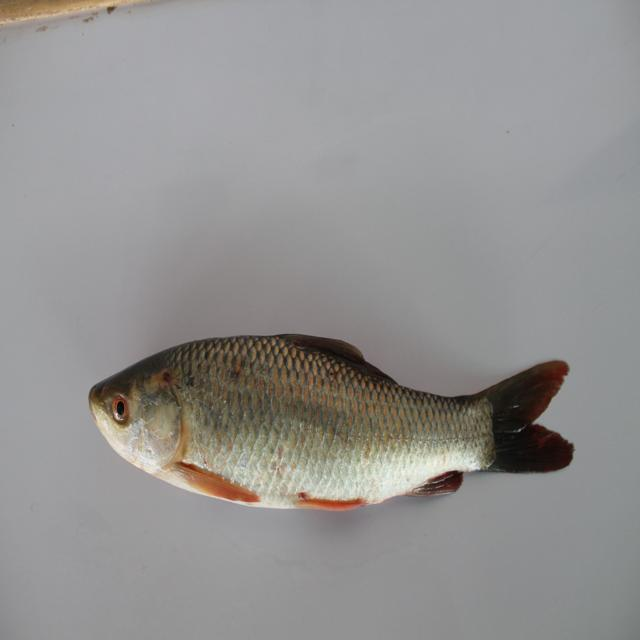Rohu: (69, 333, 597, 514)
